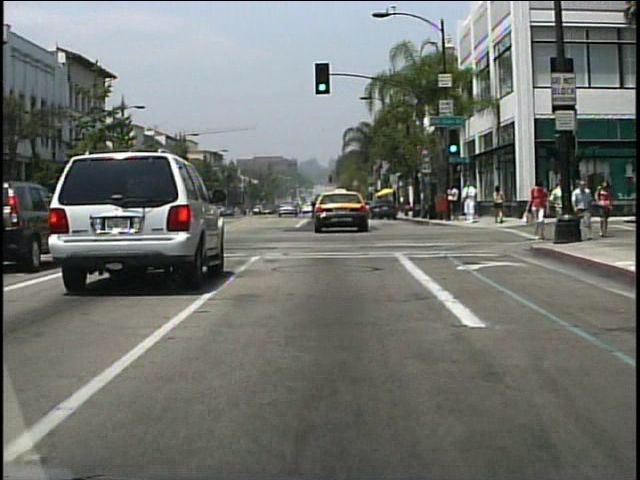person: (523, 181, 551, 243), (573, 179, 595, 243), (595, 177, 615, 240), (549, 179, 569, 240), (555, 180, 571, 230), (530, 188, 546, 229), (491, 186, 507, 227), (464, 183, 478, 226), (448, 181, 459, 222)
